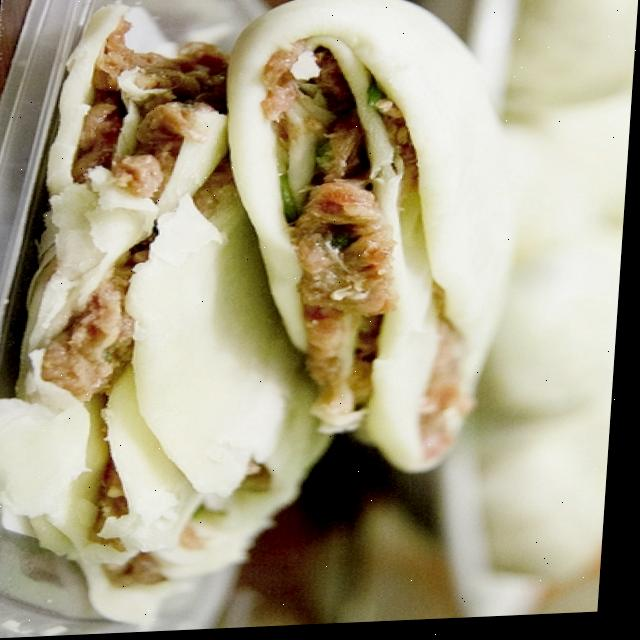炸货点心: (0, 0, 602, 630)
熟制海鲜: (0, 0, 602, 630)
